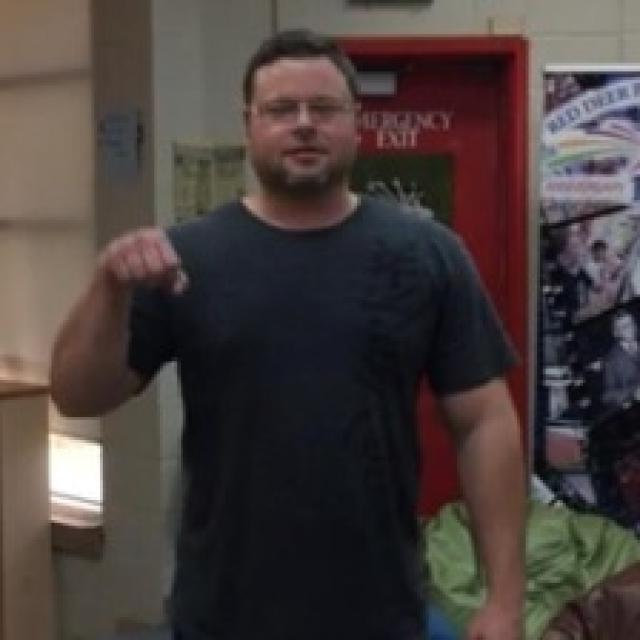yes: (93, 220, 195, 304)
